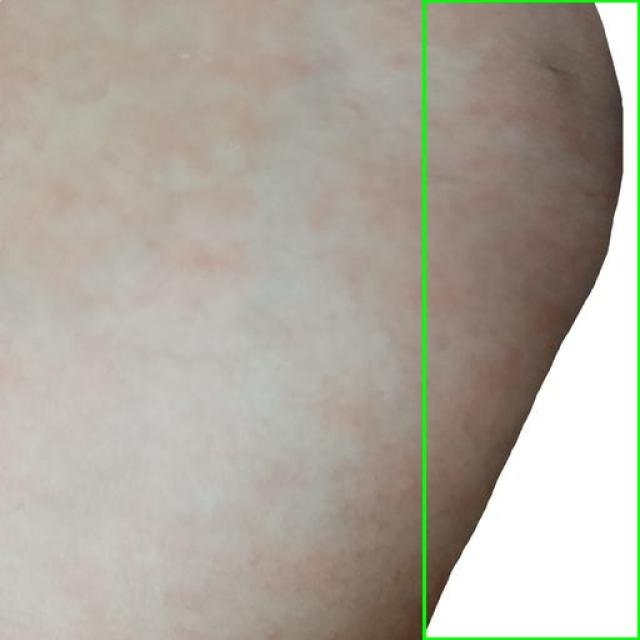Contact Dermatitis: (424, 0, 639, 639)
